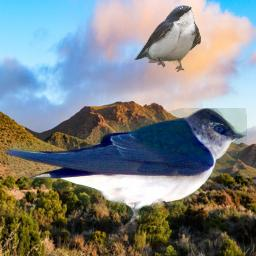Swallow: (3, 108, 247, 228), (134, 5, 201, 72)
